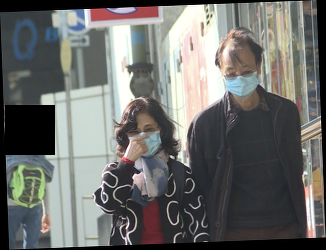with_mask: (127, 123, 163, 161), (221, 63, 260, 97)
